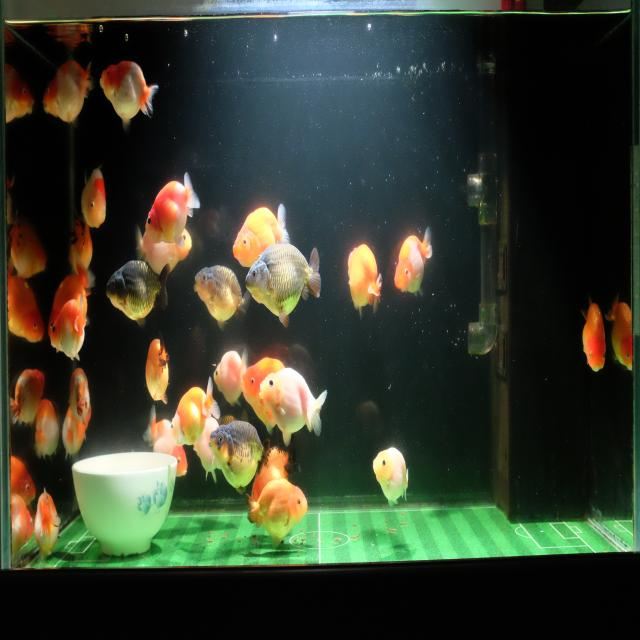Goldfish: (244, 241, 321, 330), (258, 365, 330, 447), (208, 418, 272, 499), (244, 478, 309, 554), (104, 258, 170, 330), (99, 58, 159, 134), (143, 168, 201, 246), (232, 202, 292, 270), (193, 264, 249, 333), (169, 376, 221, 450), (238, 354, 286, 432), (41, 56, 94, 126), (134, 218, 192, 277), (46, 268, 94, 338), (142, 405, 188, 478), (393, 225, 434, 302), (48, 288, 88, 362), (6, 272, 43, 349), (347, 242, 383, 320), (8, 213, 48, 281), (371, 444, 410, 509), (59, 394, 93, 468), (212, 344, 248, 409), (580, 295, 607, 379), (10, 367, 45, 431), (143, 329, 169, 411), (34, 484, 61, 560), (79, 162, 107, 234), (607, 295, 632, 368), (34, 396, 58, 468), (67, 215, 94, 278), (10, 489, 32, 562), (9, 453, 37, 508), (67, 366, 91, 426)
